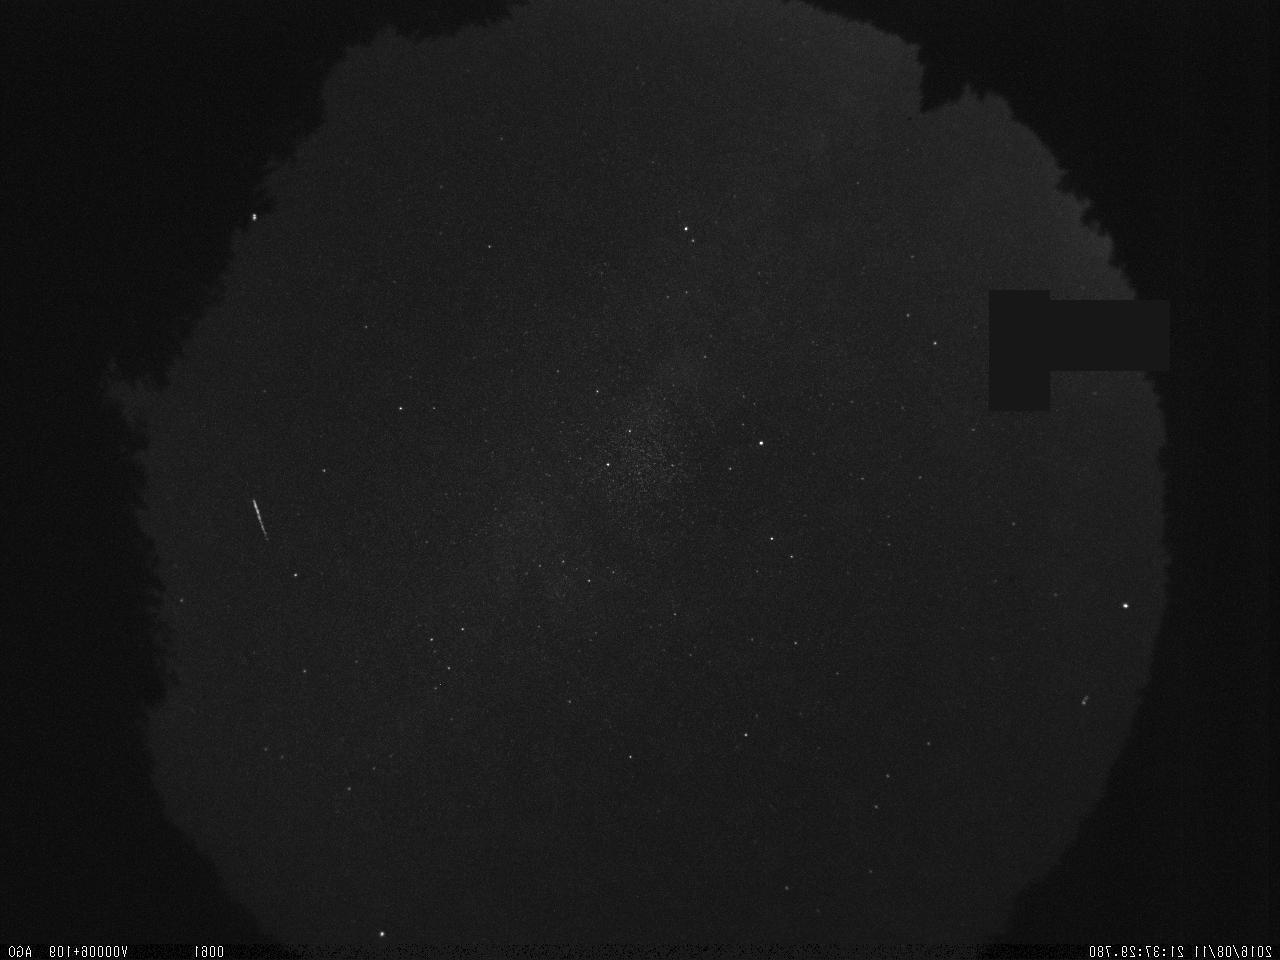meteor: (245, 483, 276, 547)
